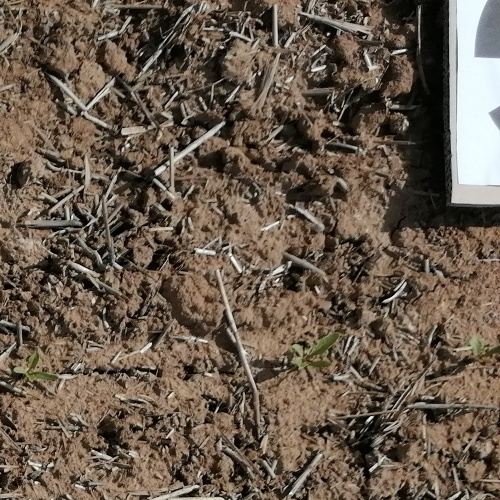beet: (289, 333, 339, 370), (13, 351, 58, 384), (468, 337, 500, 364)
